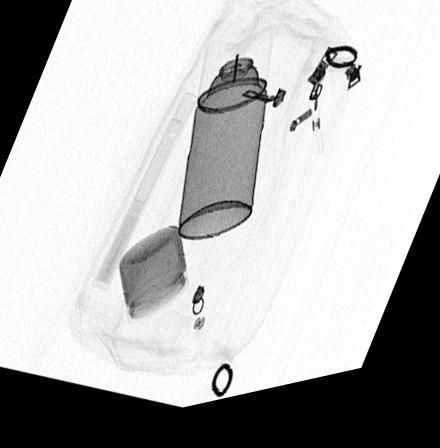Sprayer: (174, 38, 274, 250)
